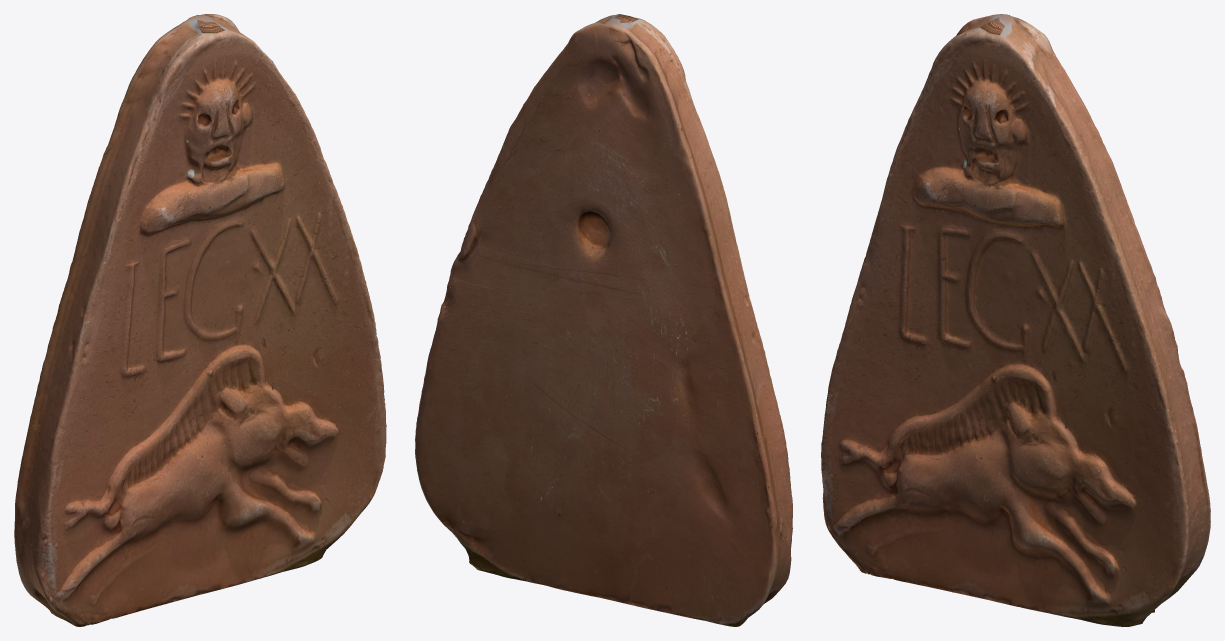
File: brick.fbx
3 views of the same model, side by side, from view 1: azimuth 30°, elevation 25°; view 2: azimuth 150°, elevation 25°; view 3: azimuth 330°, elevation 25° (orthographic). The views are drawn at different scales.
Visible parts, largest first — view 1: Object; view 2: Object; view 3: Object.
Boxes of the visible parts, x1,y1,x2,y2 form: Object: (14, 14, 386, 626); Object: (415, 14, 792, 626); Object: (821, 14, 1210, 626).
Bounding box in the file's own units: 280 × 424 × 59.1.
